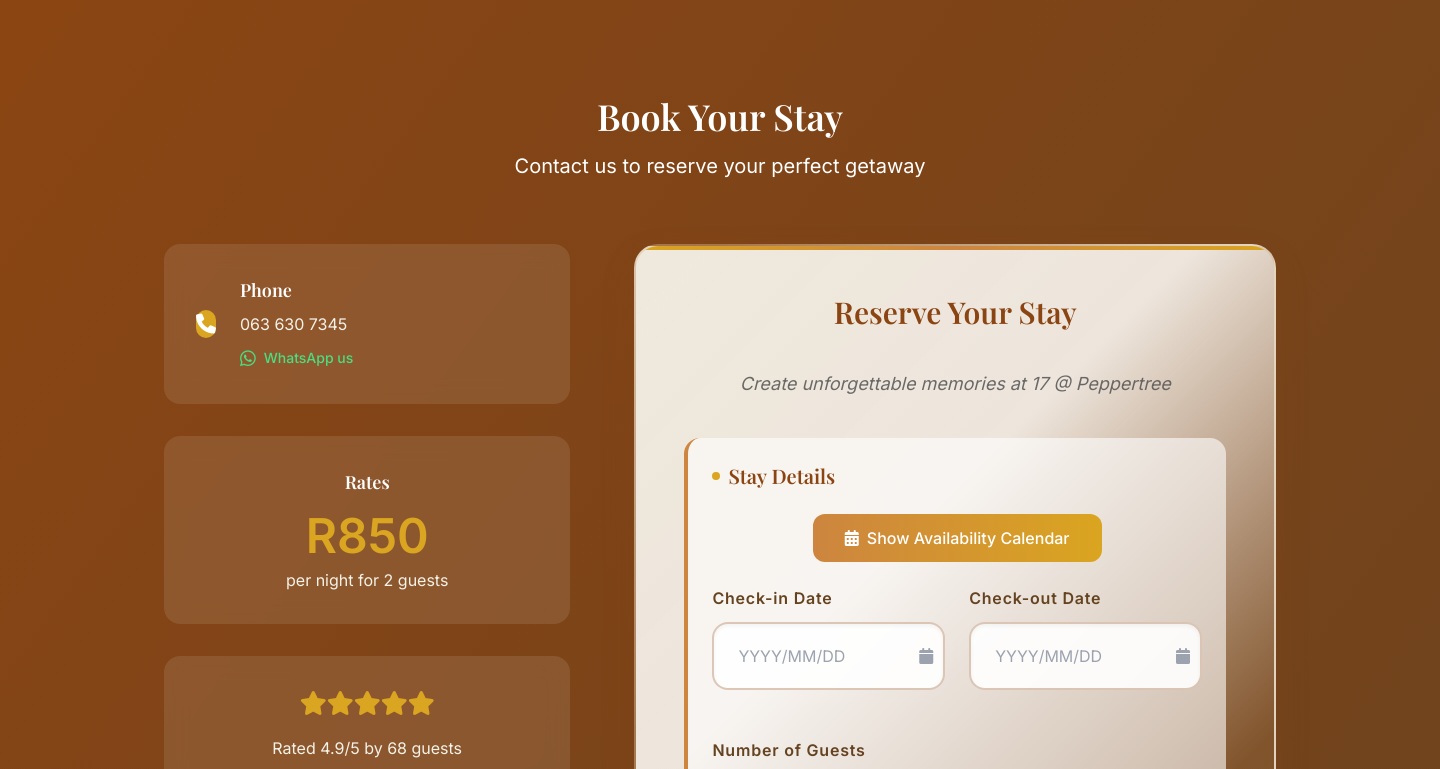
Test: Contact Component › Form Input Handling › automatic slash insertion during typing
Test automatic slash insertion after year
In the field labelled "Check-in Date": (829, 656) top-left (712, 622), bottom-right (945, 690), type "20241"
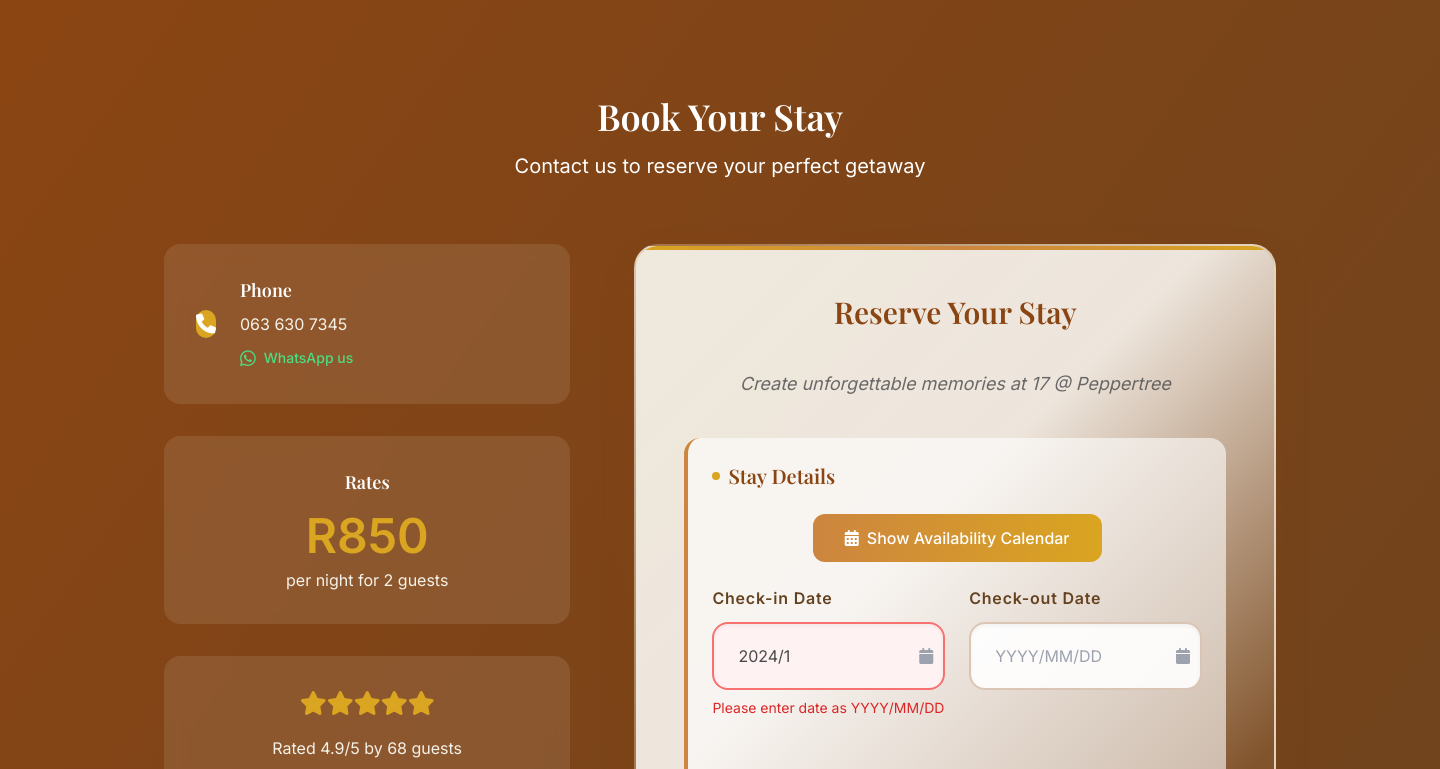
Expected: the field labelled "Check-in Date" holds "2024/1"
Test automatic slash insertion after month
Replace the text in the field labelled "Check-in Date" with "20241225": (829, 656) top-left (712, 622), bottom-right (945, 690)
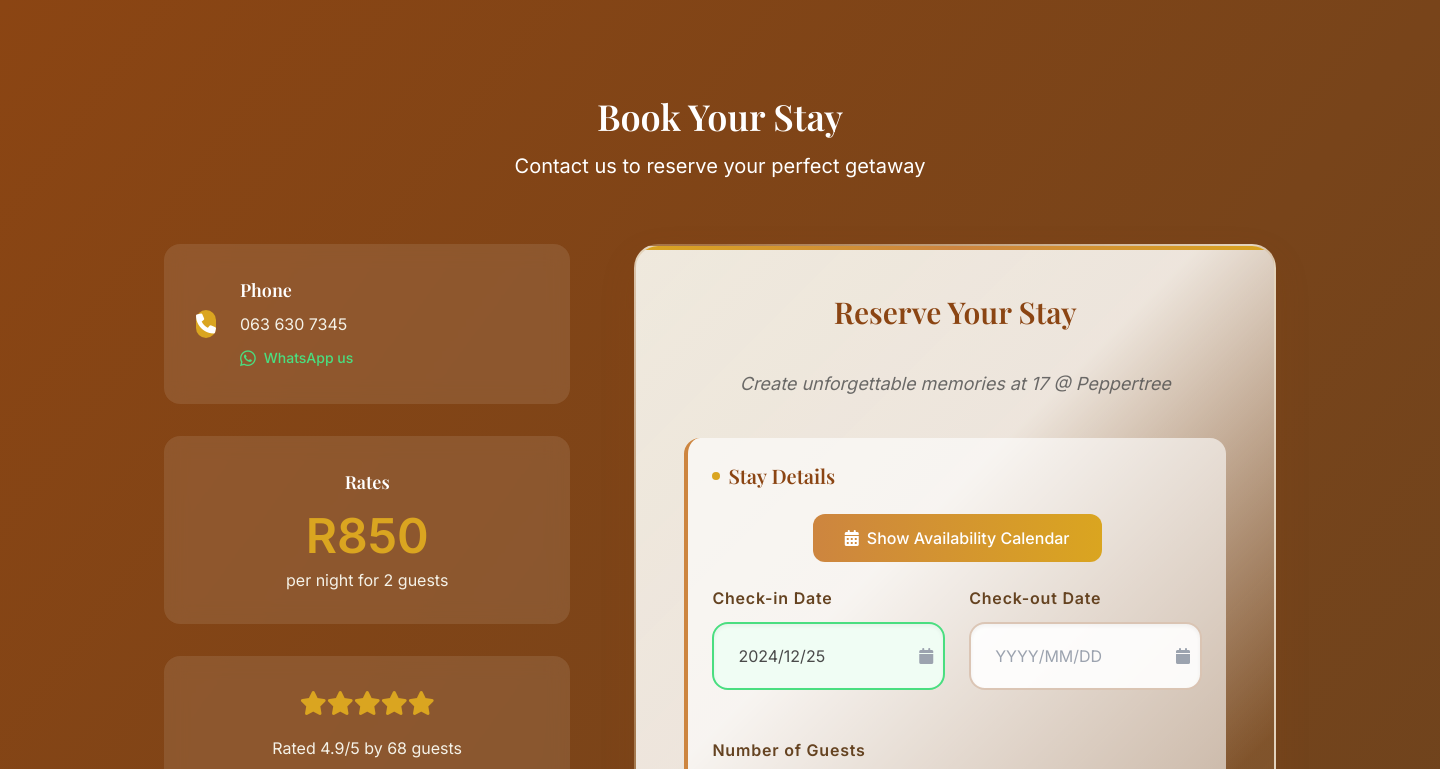
Expected: the field labelled "Check-in Date" holds "2024/12/25", top-left (712, 622), bottom-right (945, 690)
